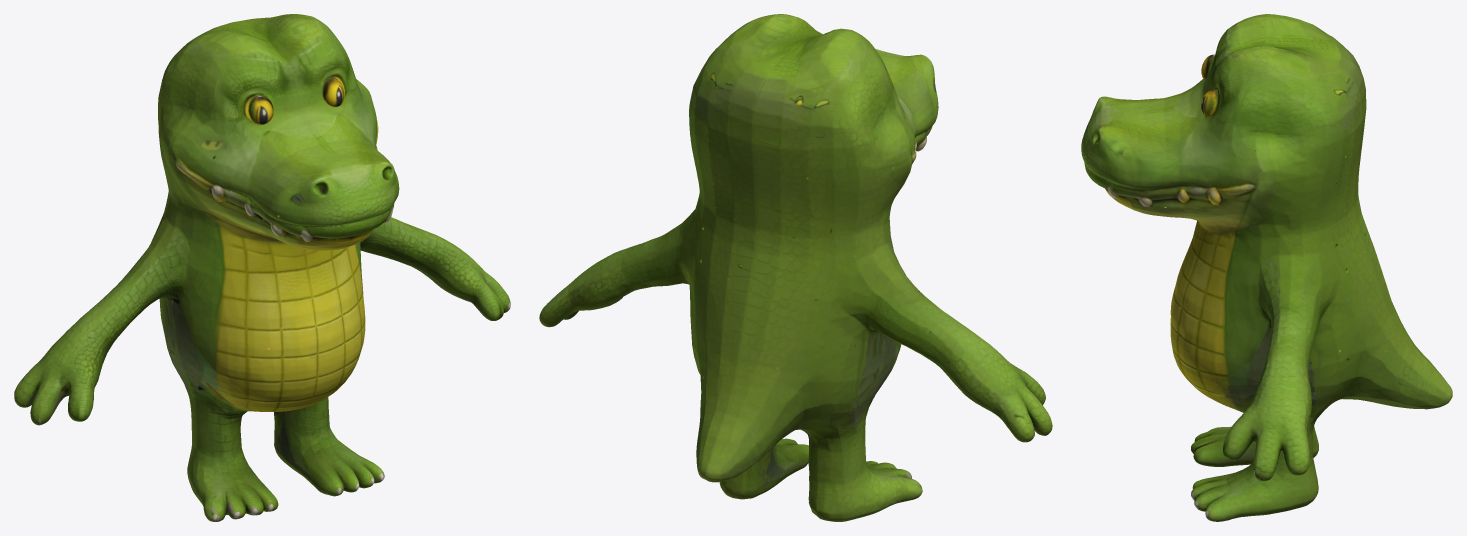
File: Crocodile_Friend_0717174116_texture.fbx
3 views of the same model, side by side, from view 1: azimuth 30°, elevation 25°; view 2: azimuth 150°, elevation 25°; view 3: azimuth 270°, elevation 25° (orthographic). The views are drawn at different scales.
Visible parts, largest first — view 1: Mesh_0; view 2: Mesh_0; view 3: Mesh_0.
Part boxes in pixels (x1,y1,x2,y2): Mesh_0: [14, 14, 510, 521]; Mesh_0: [539, 14, 1052, 521]; Mesh_0: [1081, 14, 1452, 521].
Bounding box in the file's own units: 200 × 183 × 137.
Materials: 1 (1 with a texture image).
